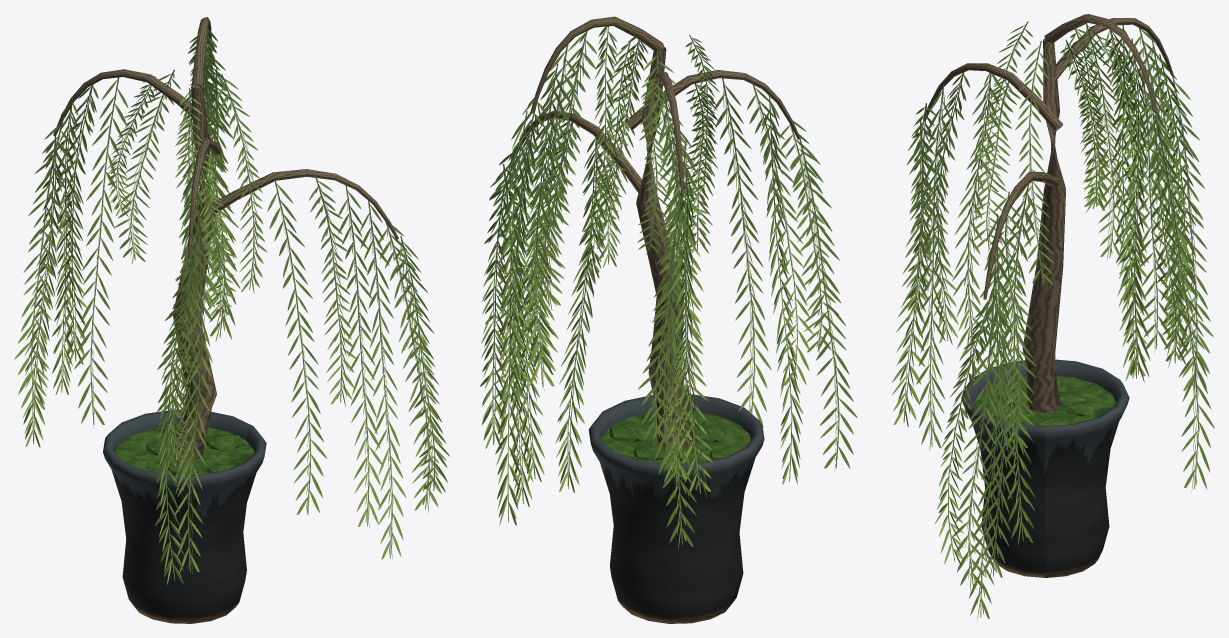
Rendered from willow.glb.
3 views of the same model, side by side, from view 1: azimuth 30°, elevation 25°; view 2: azimuth 150°, elevation 25°; view 3: azimuth 270°, elevation 25° (orthographic). The views are drawn at different scales.
Parts seen in each view (by area): view 1: WillowLeaves, WillowPotBody, WillowTrunk, WillowSoilTop, WillowBranch0, WillowBranch2, WillowBranch1, WillowBranch3; view 2: WillowLeaves, WillowPotBody, WillowTrunk, WillowSoilTop, WillowBranch3, WillowBranch1, WillowBranch0, WillowBranch2, WillowMoss0; view 3: WillowLeaves, WillowPotBody, WillowTrunk, WillowSoilTop, WillowBranch1, WillowBranch3, WillowBranch0, WillowBranch2.
Part boxes in pixels (x1,y1,x2,y2): WillowLeaves: [14, 28, 449, 584]; WillowPotBody: [103, 409, 266, 623]; WillowTrunk: [170, 84, 216, 460]; WillowSoilTop: [116, 425, 254, 475]; WillowBranch0: [209, 169, 398, 239]; WillowBranch2: [53, 69, 192, 136]; WillowBranch1: [188, 138, 220, 258]; WillowBranch3: [192, 17, 212, 88]; WillowLeaves: [480, 26, 857, 548]; WillowPotBody: [588, 394, 764, 623]; WillowTrunk: [636, 47, 693, 447]; WillowSoilTop: [601, 412, 750, 464]; WillowBranch3: [530, 16, 664, 113]; WillowBranch1: [625, 70, 800, 139]; WillowBranch0: [511, 110, 641, 193]; WillowBranch2: [646, 71, 684, 196]; WillowMoss0: [609, 422, 648, 442]; WillowLeaves: [892, 20, 1214, 619]; WillowPotBody: [961, 359, 1129, 577]; WillowTrunk: [1022, 39, 1065, 413]; WillowSoilTop: [974, 376, 1115, 425]; WillowBranch1: [923, 63, 1062, 130]; WillowBranch3: [1044, 14, 1157, 112]; WillowBranch0: [983, 171, 1059, 299]; WillowBranch2: [1049, 18, 1173, 81].
Bounding box in the file's own units: 0.7129 × 1.16 × 0.616.
4 materials, 4 textured.
